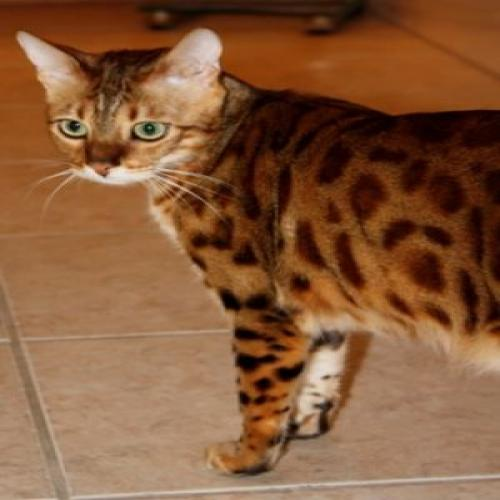bengal: (8, 21, 270, 202)
